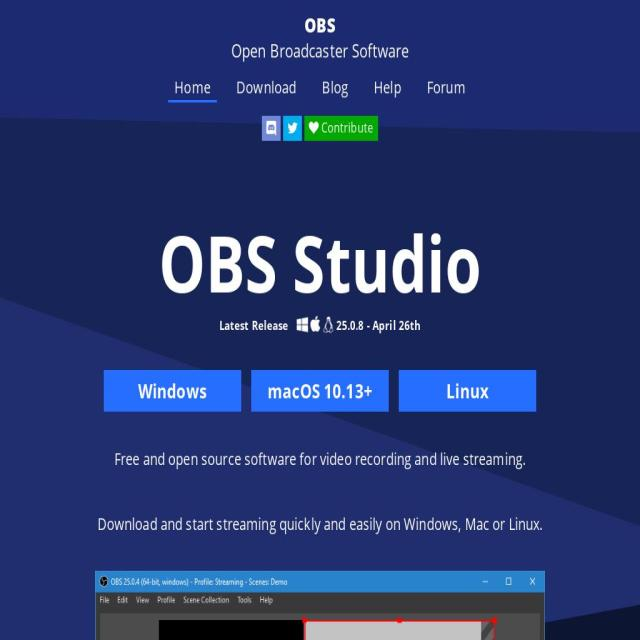button: (103, 370, 241, 412), (251, 370, 389, 412), (399, 370, 537, 412), (304, 116, 379, 141), (230, 75, 303, 100), (168, 75, 217, 103), (420, 75, 472, 100), (368, 75, 408, 100), (316, 75, 355, 100), (261, 116, 281, 141), (283, 116, 303, 141)
heading: (0, 225, 640, 300)
image: (0, 0, 639, 640), (105, 634, 606, 640), (264, 119, 278, 138), (308, 316, 321, 332), (321, 317, 334, 333), (296, 317, 308, 333)
link: (307, 118, 374, 137)
text: (0, 8, 640, 34), (0, 34, 640, 58), (97, 513, 542, 535), (113, 448, 526, 470), (137, 377, 207, 404), (336, 317, 420, 333), (219, 317, 289, 333)
